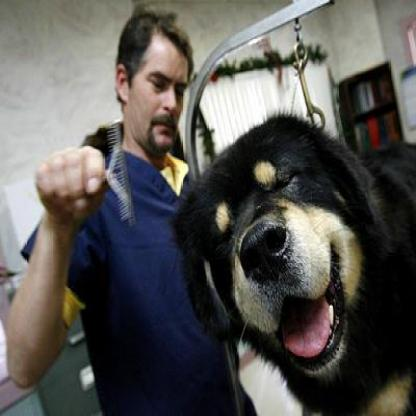Tibetan_mastiff: (172, 110, 414, 413)
